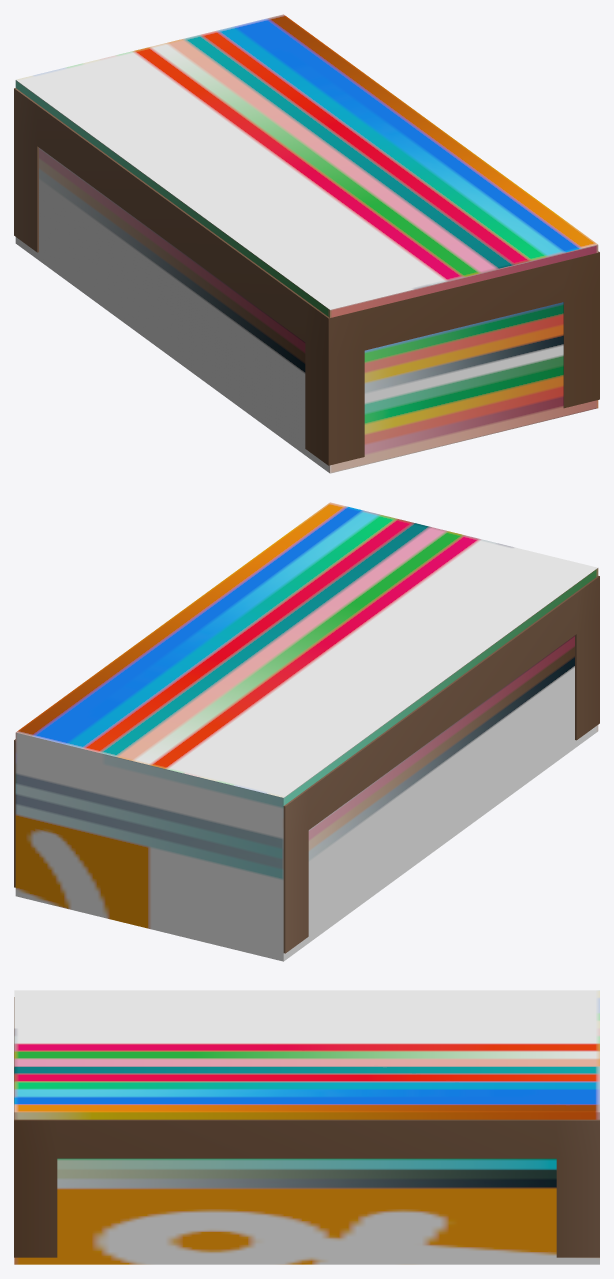
File: Asset_BeachBench.glb
3 renders of one model, top to bottom at view 1: azimuth 30°, elevation 25°; view 2: azimuth 150°, elevation 25°; view 3: azimuth 270°, elevation 25°, orthographic. The views are drawn at different scales.
Parts seen in each view (by area): view 1: Collsion.001, Mesh.002; view 2: Collsion.001, Mesh.002; view 3: Collsion.001, Mesh.002.
Part boxes in pixels (x1=…): Collsion.001: x1=15, y1=14, x2=598, y2=473; Mesh.002: x1=14, y1=88, x2=599, y2=465; Collsion.001: x1=15, y1=502, x2=598, y2=961; Mesh.002: x1=14, y1=576, x2=599, y2=953; Collsion.001: x1=14, y1=990, x2=599, y2=1264; Mesh.002: x1=14, y1=997, x2=599, y2=1257.
Size of the model in its own units: 2.13 by 1.23 by 4.27.
Materials: 1 (1 with a texture image).
